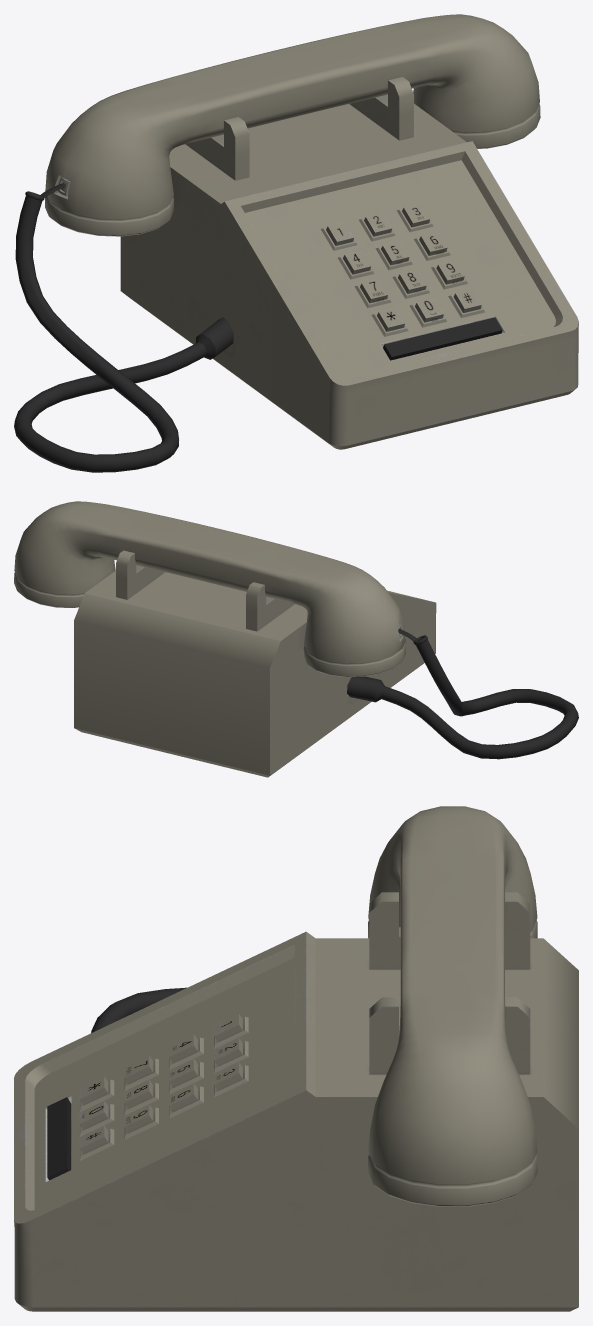
The picture shows the model from 3 angles, top to bottom: view 1: azimuth 30°, elevation 25°; view 2: azimuth 150°, elevation 25°; view 3: azimuth 270°, elevation 25°; orthographic projection. The views are drawn at different scales.
Visible parts, largest first — view 1: Sm_Phone01; view 2: Sm_Phone01; view 3: Sm_Phone01.
Boxes of the visible parts, x1,y1,x2,y2 form: Sm_Phone01: [14, 14, 578, 472]; Sm_Phone01: [14, 501, 578, 777]; Sm_Phone01: [14, 806, 578, 1311].
Size of the model in its own units: 0.3287 by 0.1267 by 0.2065.
Materials: 1 (1 with a texture image).
